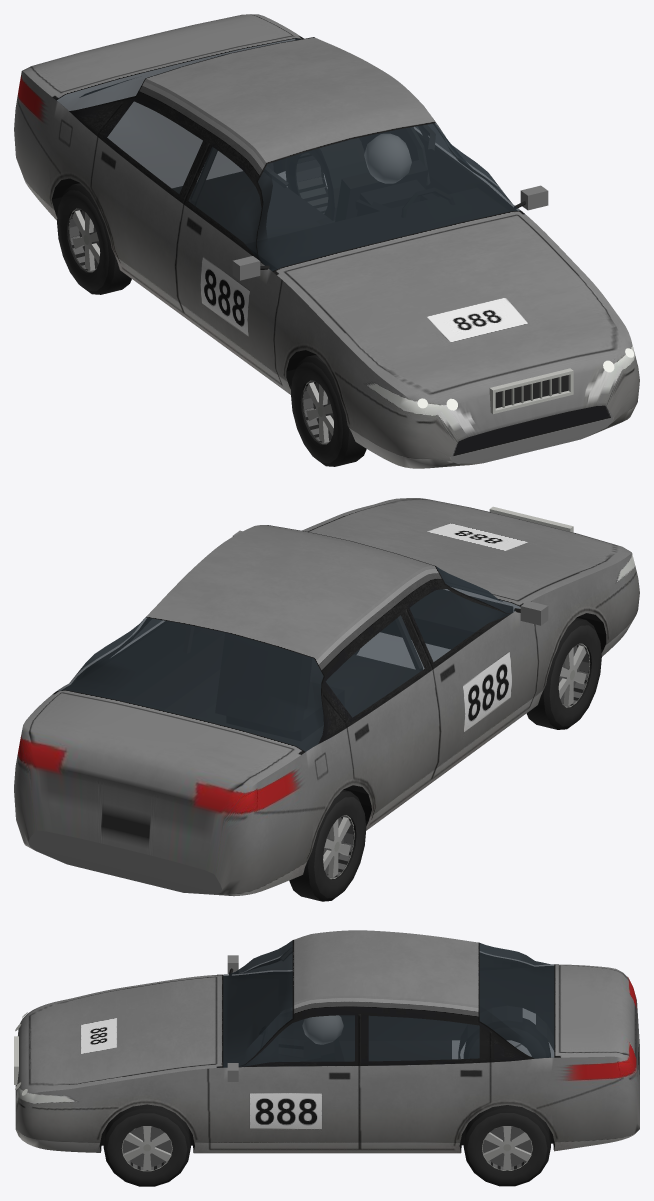
3 views of the same model, one above another, from view 1: azimuth 30°, elevation 25°; view 2: azimuth 150°, elevation 25°; view 3: azimuth 270°, elevation 25° (orthographic). The views are drawn at different scales.
Visible parts, largest first — view 1: body, wheel_fr, wheel_rr, wheel_rl; view 2: body, wheel_fr, wheel_rr; view 3: body, wheel_fl, wheel_rl, wheel_rr.
Boxes of the visible parts, bbox=[...] form: body: bbox=[14, 14, 639, 468]; wheel_fr: bbox=[291, 354, 366, 466]; wheel_rr: bbox=[57, 183, 131, 294]; wheel_rl: bbox=[285, 148, 334, 220]; body: bbox=[14, 498, 639, 896]; wheel_fr: bbox=[526, 617, 601, 729]; wheel_rr: bbox=[289, 790, 366, 901]; body: bbox=[14, 930, 639, 1153]; wheel_fl: bbox=[103, 1104, 190, 1186]; wheel_rl: bbox=[463, 1105, 550, 1186]; wheel_rr: bbox=[464, 1018, 550, 1058].
Size of the model in its own units: 1.97 by 1.44 by 4.52.
2 materials, 1 textured.
